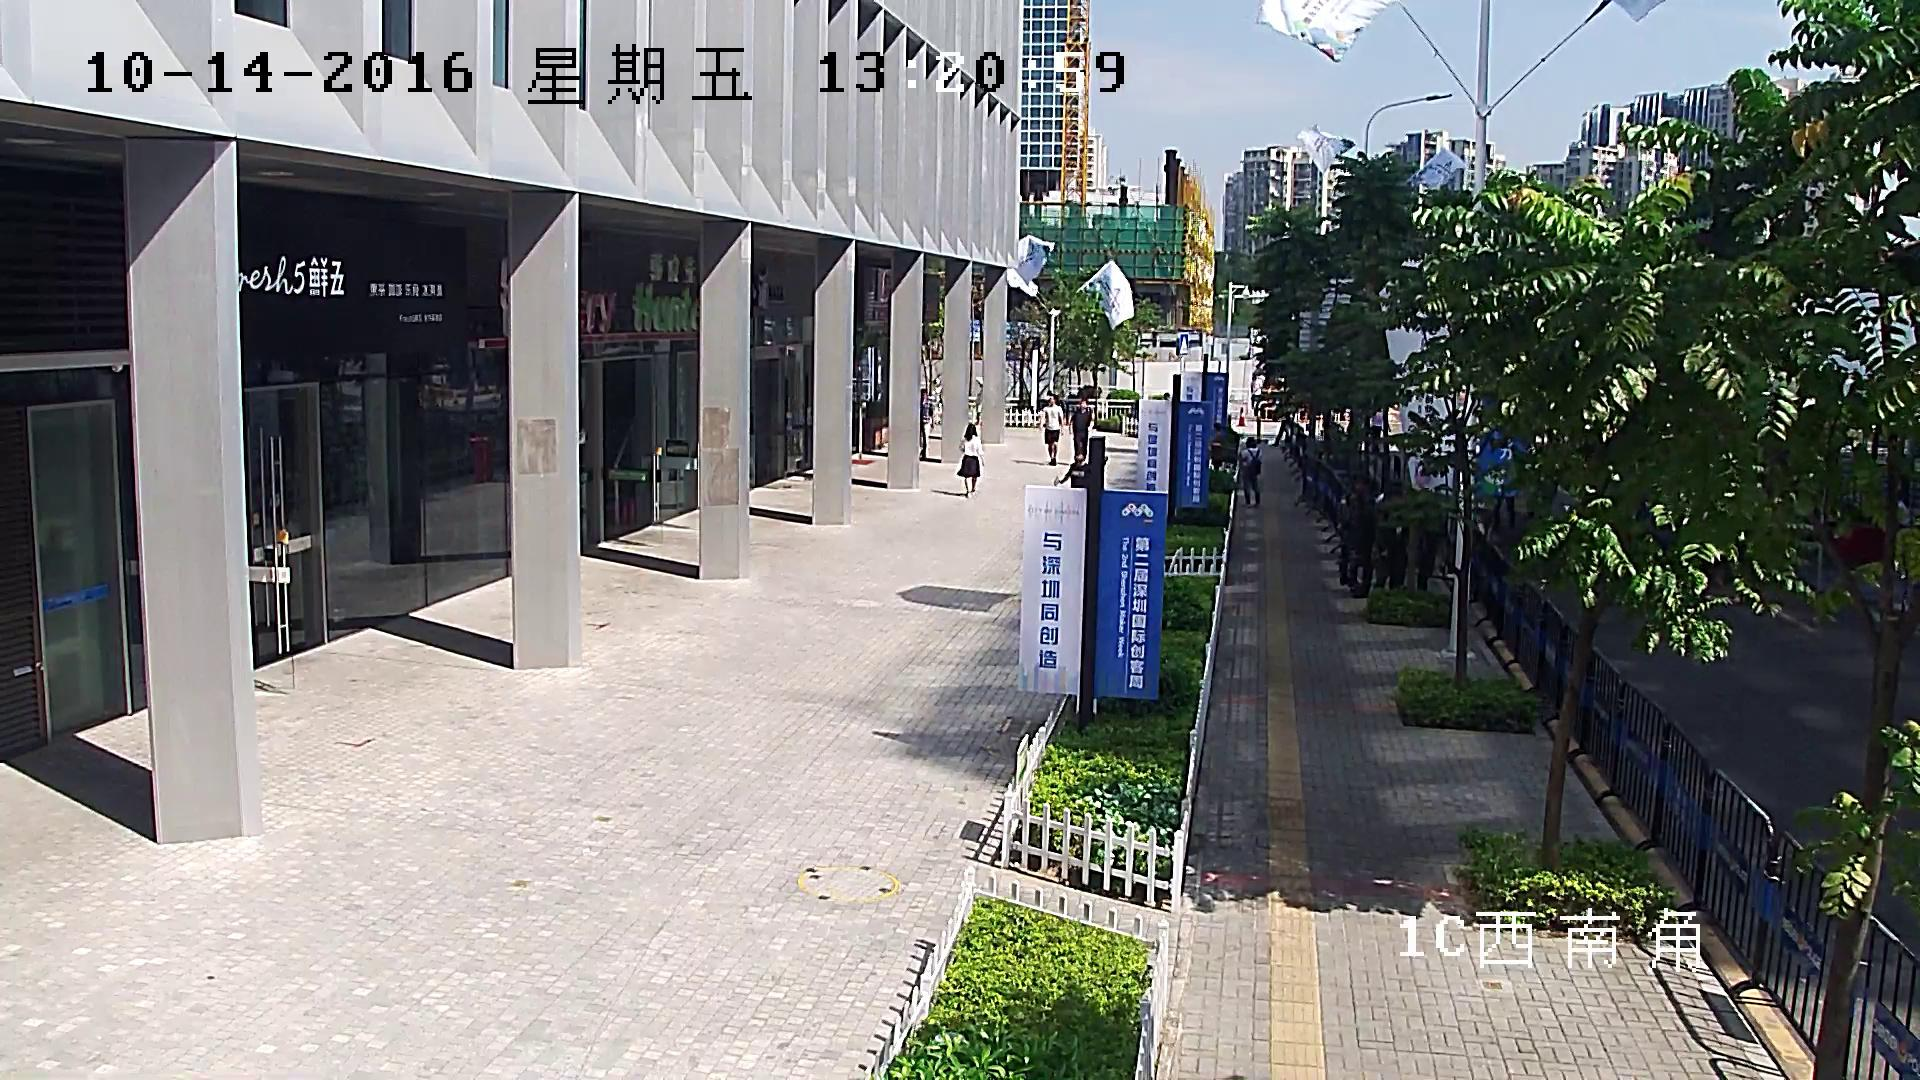person: (1343, 476, 1378, 600), (1373, 492, 1408, 592), (956, 422, 984, 498), (1237, 435, 1263, 508), (1038, 394, 1064, 466), (1068, 399, 1092, 463), (918, 387, 934, 459), (973, 376, 984, 426), (974, 384, 985, 425), (932, 373, 943, 408)
